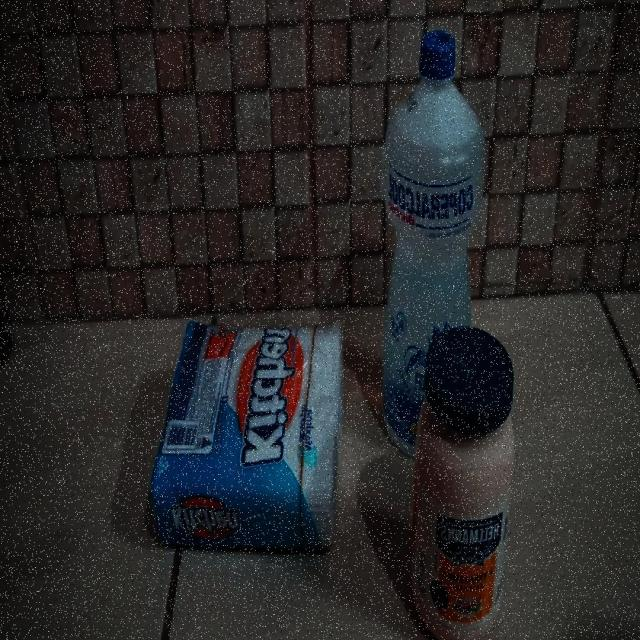AlcoholBottle: (381, 32, 486, 462)
Mayonnaise: (409, 328, 512, 640)
Napkin: (151, 317, 347, 550)
